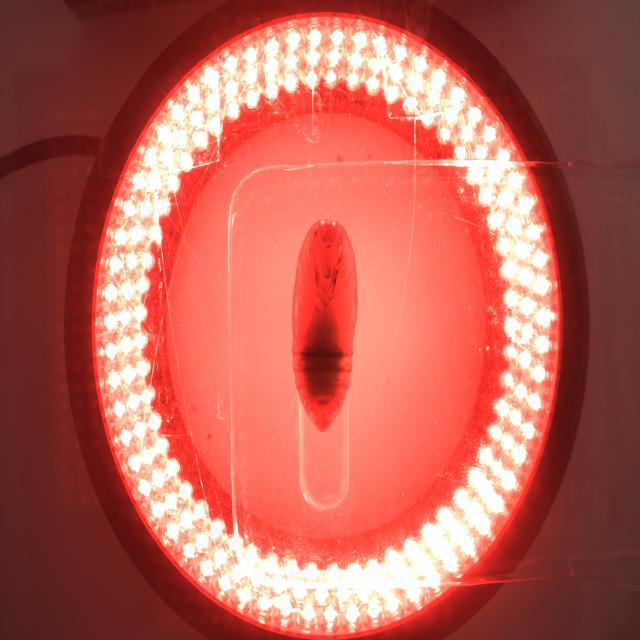male: (316, 399, 330, 407)
